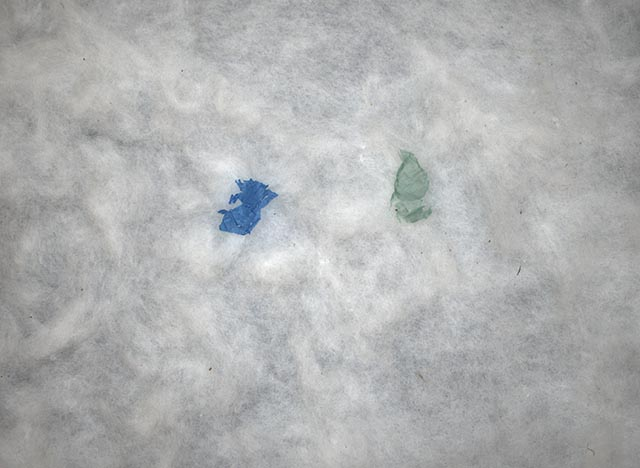plastic film: (216, 178, 280, 236), (389, 147, 434, 225)
